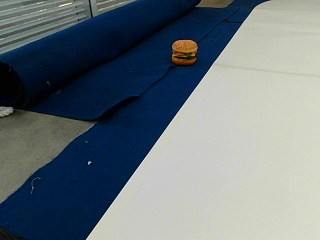burger: (171, 37, 197, 64)
